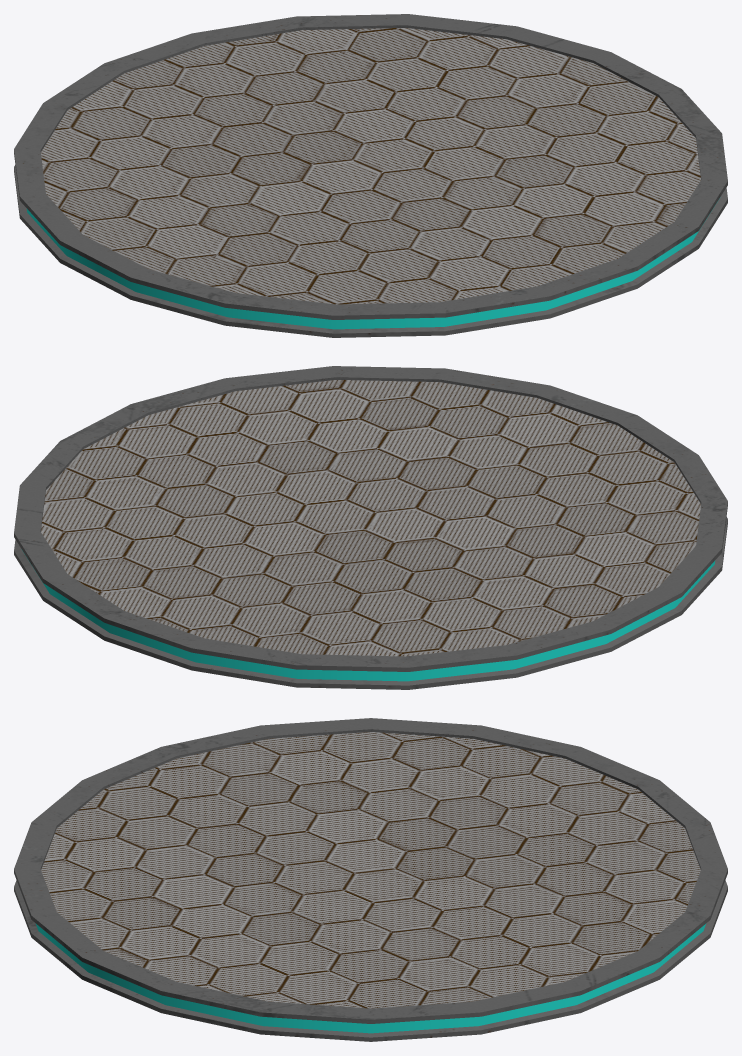
File: round_platform.glb
3 views of the same model, one above another, from view 1: azimuth 30°, elevation 25°; view 2: azimuth 150°, elevation 25°; view 3: azimuth 270°, elevation 25° (orthographic).
Visible parts, largest first — view 1: pCylinder1; view 2: pCylinder1; view 3: pCylinder1.
Part boxes in pixels (bbox=[...]): pCylinder1: bbox=[14, 14, 727, 337]; pCylinder1: bbox=[14, 366, 727, 689]; pCylinder1: bbox=[14, 718, 727, 1041].
Bounding box in the file's own units: 5.09 × 0.1742 × 5.09.
Materials: 1 (1 with a texture image).
